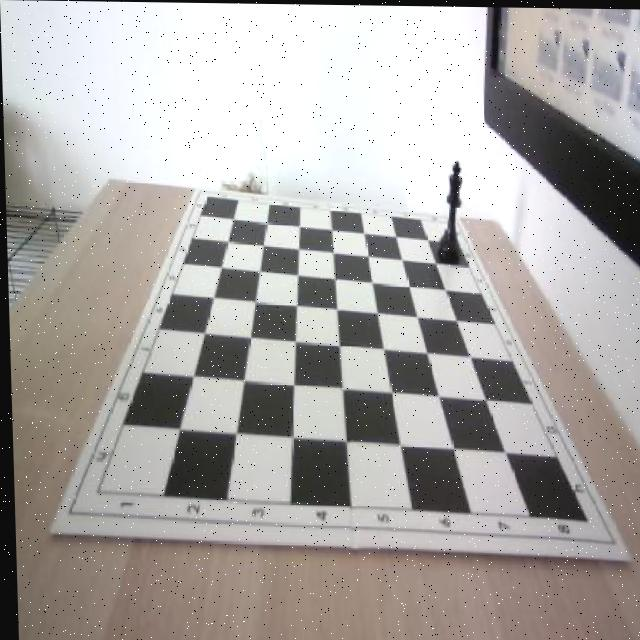black-bishop: (433, 159, 466, 263)
